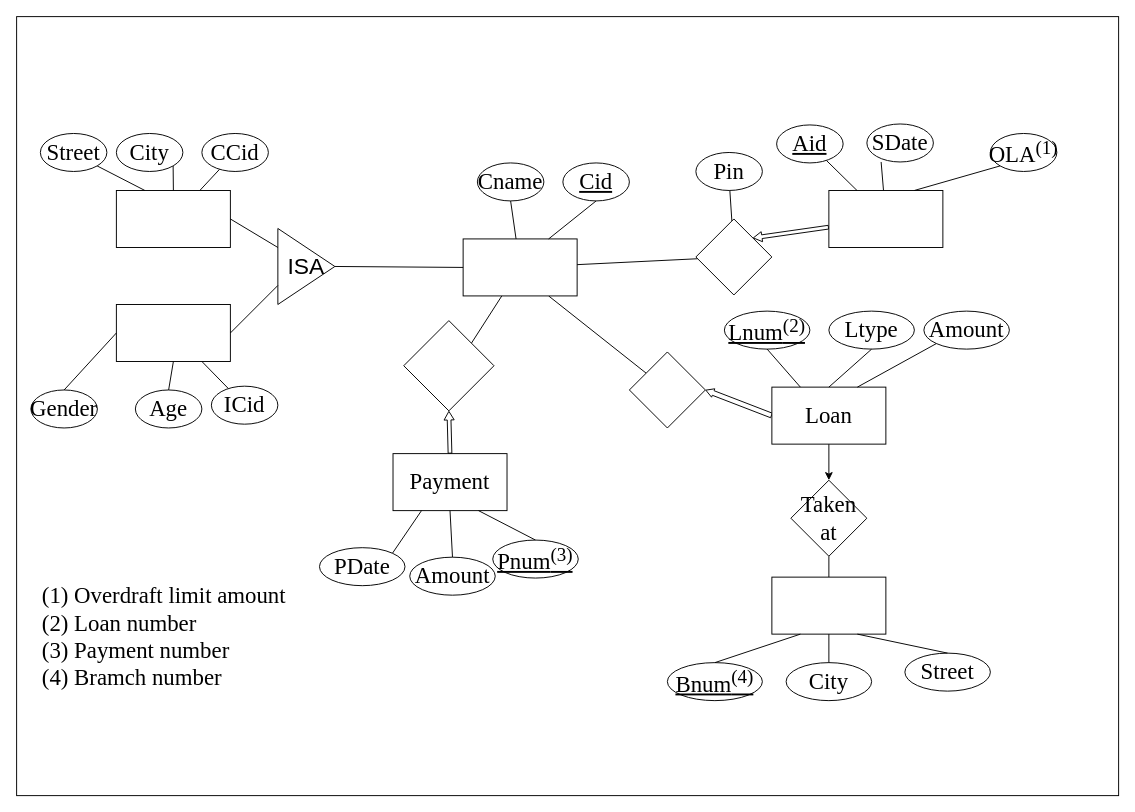
Some shapes in this 1135 by 812 pixel diagram are drawn without their labels. Here are the shapes that lost their labels. From the top down, the centre of each, then its label:
At pixel 172 218: "Company".
At pixel 885 218: "Account".
At pixel 519 267: "Customer".
At pixel 733 256: "Own".
At pixel 172 332: "Individual".
At pixel 448 365: "Paid by".
At pixel 666 389: "Borrow".
At pixel 828 605: "Branch".
